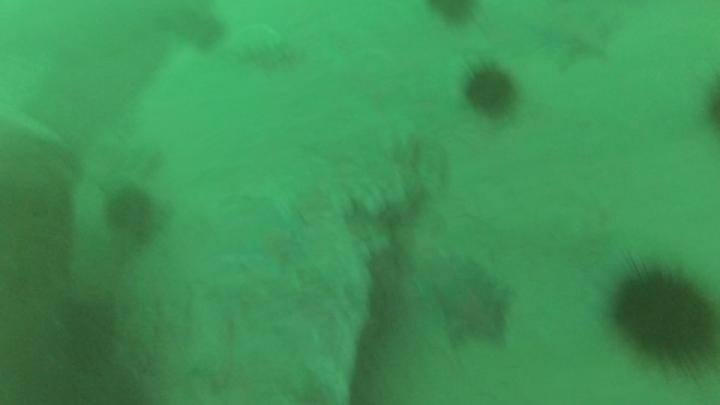echinus: (604, 257, 720, 374), (457, 57, 523, 123), (101, 182, 161, 245), (421, 0, 486, 30)
starfish: (430, 263, 516, 350), (527, 4, 620, 71)
